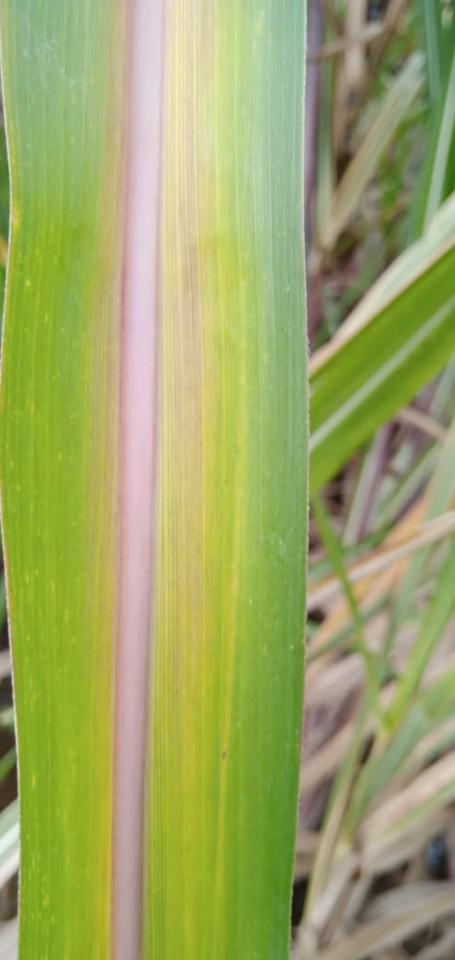Rust: (221, 751, 227, 761)
Yellow: (164, 0, 212, 542)
